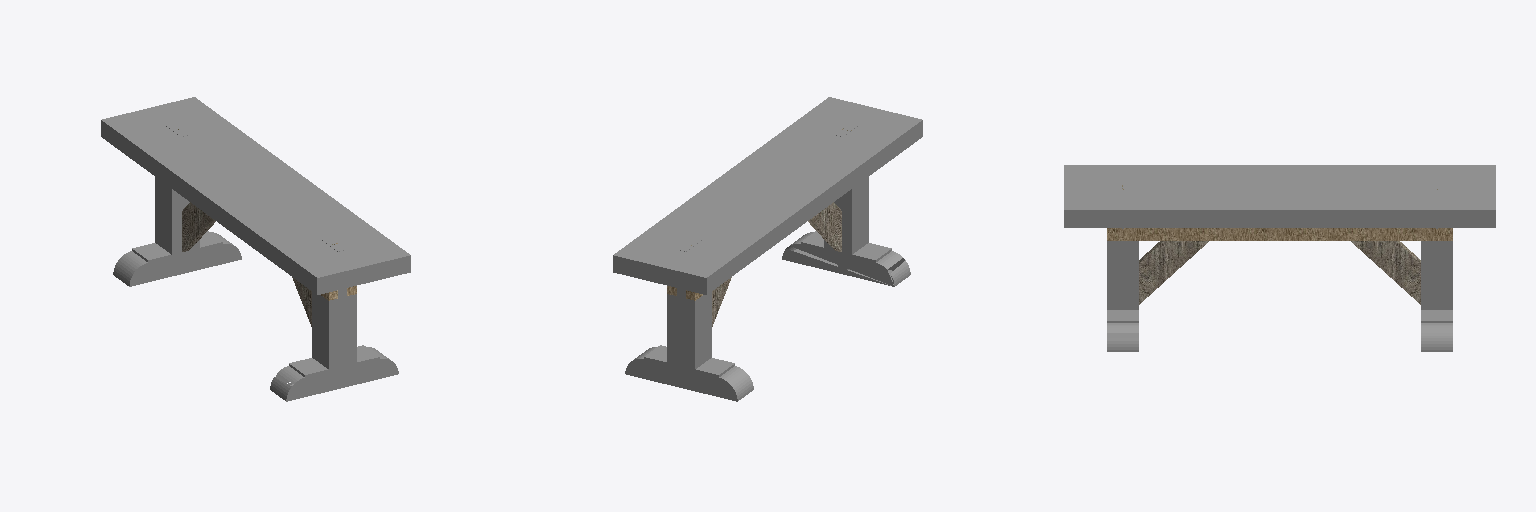
The picture shows the model from 3 angles: view 1: azimuth 30°, elevation 25°; view 2: azimuth 150°, elevation 25°; view 3: azimuth 270°, elevation 25°; orthographic projection.
Parts seen in each view (by area): view 1: mesh1_mesh1-geometry, mesh18.002_mesh18-geometry, mesh18.001_mesh18-geometry, mesh21.003_mesh21-geometry, mesh21.002_mesh21-geometry, mesh26.001_mesh26-geometry; view 2: mesh1_mesh1-geometry, mesh18.001_mesh18-geometry, mesh18.002_mesh18-geometry, mesh21.002_mesh21-geometry, mesh21.003_mesh21-geometry, mesh30.001_mesh30-geometry; view 3: mesh1_mesh1-geometry, mesh3_mesh3-geometry, mesh21.003_mesh21-geometry, mesh21.002_mesh21-geometry, mesh30.001_mesh30-geometry, mesh26.001_mesh26-geometry, mesh18.002_mesh18-geometry, mesh18.001_mesh18-geometry.
Part boxes in pixels (x1,y1,x2,y2): mesh1_mesh1-geometry: (101,97,410,294); mesh18.002_mesh18-geometry: (270,345,398,401); mesh18.001_mesh18-geometry: (113,231,241,286); mesh21.003_mesh21-geometry: (312,238,356,368); mesh21.002_mesh21-geometry: (155,123,199,254); mesh26.001_mesh26-geometry: (182,202,215,251); mesh1_mesh1-geometry: (613,97,922,294); mesh18.001_mesh18-geometry: (625,345,753,401); mesh18.002_mesh18-geometry: (782,231,910,286); mesh21.002_mesh21-geometry: (667,238,711,368); mesh21.003_mesh21-geometry: (824,123,868,269); mesh30.001_mesh30-geometry: (808,202,841,251); mesh1_mesh1-geometry: (1064,165,1495,227); mesh3_mesh3-geometry: (1107,228,1452,240); mesh21.003_mesh21-geometry: (1107,185,1138,309); mesh21.002_mesh21-geometry: (1421,185,1452,309); mesh30.001_mesh30-geometry: (1139,241,1208,304); mesh26.001_mesh26-geometry: (1351,241,1420,304); mesh18.002_mesh18-geometry: (1107,310,1138,351); mesh18.001_mesh18-geometry: (1421,310,1452,351).
Bounding box in the file's own units: 0.2724 × 0.3184 × 0.908.
Materials: 6 (3 with a texture image).